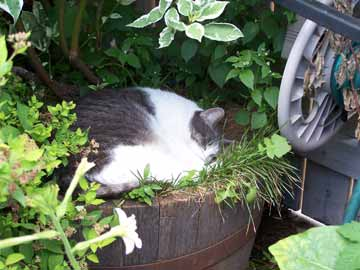cat: (71, 79, 228, 189)
